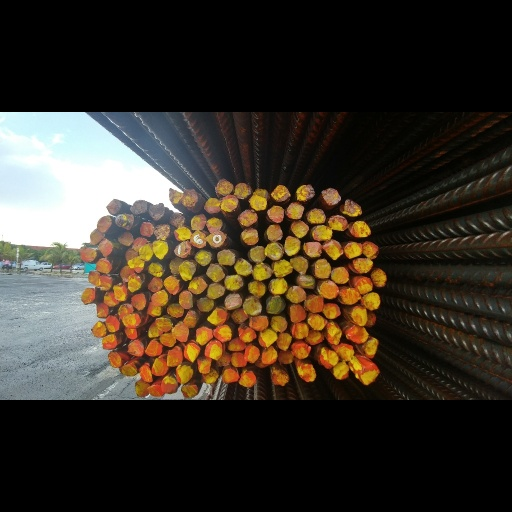dipstick: (357, 365, 380, 385), (171, 324, 191, 343), (252, 263, 273, 281), (271, 185, 291, 203), (238, 209, 258, 227), (324, 241, 344, 259), (178, 262, 196, 281), (194, 327, 213, 345), (213, 324, 232, 342), (269, 315, 288, 333), (341, 200, 361, 217), (205, 339, 222, 359), (322, 302, 343, 318), (163, 276, 181, 294), (296, 184, 315, 201), (219, 194, 238, 211), (351, 221, 370, 238), (290, 221, 309, 238), (289, 257, 308, 274), (206, 282, 225, 299), (270, 277, 287, 296), (287, 286, 306, 303), (266, 296, 285, 313), (242, 298, 261, 315), (288, 323, 307, 340), (349, 327, 368, 344), (312, 225, 332, 241), (353, 257, 373, 273), (315, 258, 331, 278), (187, 277, 207, 293), (352, 305, 368, 325), (138, 364, 154, 384), (122, 314, 143, 329), (206, 310, 227, 325), (286, 202, 304, 219), (174, 241, 192, 258), (266, 243, 284, 260), (206, 264, 224, 281), (224, 294, 242, 311), (248, 280, 265, 298), (321, 281, 338, 299), (289, 304, 306, 322), (167, 349, 185, 366), (176, 365, 193, 383), (238, 325, 255, 343), (321, 189, 340, 205), (284, 237, 300, 256), (330, 267, 349, 283), (274, 261, 293, 277), (195, 296, 214, 312), (305, 296, 324, 312), (322, 348, 338, 367), (329, 215, 349, 230), (248, 315, 268, 330), (268, 206, 285, 223), (241, 228, 258, 245), (190, 231, 207, 248), (218, 249, 235, 266), (363, 293, 380, 310), (181, 190, 199, 206), (78, 246, 96, 262), (194, 250, 212, 266), (303, 242, 321, 258), (151, 357, 167, 375), (184, 343, 200, 361), (160, 377, 178, 393), (207, 232, 226, 247), (261, 346, 276, 365), (365, 337, 378, 358), (249, 196, 266, 212), (234, 183, 251, 199), (204, 198, 221, 214), (105, 199, 122, 215), (149, 202, 165, 219), (308, 208, 325, 224), (249, 246, 266, 262), (345, 241, 361, 258), (127, 341, 143, 358), (130, 293, 147, 309), (298, 364, 314, 381), (293, 342, 310, 358), (333, 363, 349, 380), (267, 224, 282, 242), (103, 291, 121, 306), (159, 332, 177, 347), (145, 340, 163, 355), (271, 371, 289, 386), (308, 315, 326, 330), (179, 290, 193, 309), (152, 242, 168, 258), (119, 266, 135, 282), (168, 303, 184, 319), (217, 179, 234, 194), (191, 214, 206, 231), (235, 259, 252, 274), (372, 269, 387, 286), (277, 334, 292, 351), (151, 291, 169, 305), (245, 345, 259, 363), (325, 326, 339, 344), (342, 289, 358, 304), (355, 278, 371, 293), (240, 371, 255, 387), (260, 330, 276, 345), (169, 189, 186, 203), (96, 259, 113, 273), (117, 304, 134, 318), (156, 318, 173, 332), (203, 368, 220, 382), (223, 368, 240, 382), (278, 350, 295, 364), (207, 217, 222, 232), (155, 225, 170, 240), (97, 217, 112, 232), (113, 285, 128, 300), (96, 303, 111, 318), (81, 289, 95, 305), (364, 242, 378, 258), (92, 321, 106, 337), (108, 350, 122, 366), (147, 302, 163, 316), (174, 227, 191, 240), (170, 213, 185, 227), (133, 237, 148, 251), (138, 247, 153, 261), (147, 277, 162, 291), (106, 316, 120, 331), (102, 334, 117, 348), (123, 325, 137, 340), (230, 338, 245, 352), (131, 200, 147, 213), (226, 276, 242, 289), (134, 381, 147, 397), (117, 231, 131, 245), (182, 384, 196, 398), (140, 222, 153, 237), (90, 229, 103, 244), (231, 353, 246, 366), (100, 239, 112, 255), (89, 270, 101, 286), (120, 364, 136, 376), (182, 315, 198, 327), (147, 384, 163, 396), (199, 360, 212, 374), (100, 276, 112, 291)
